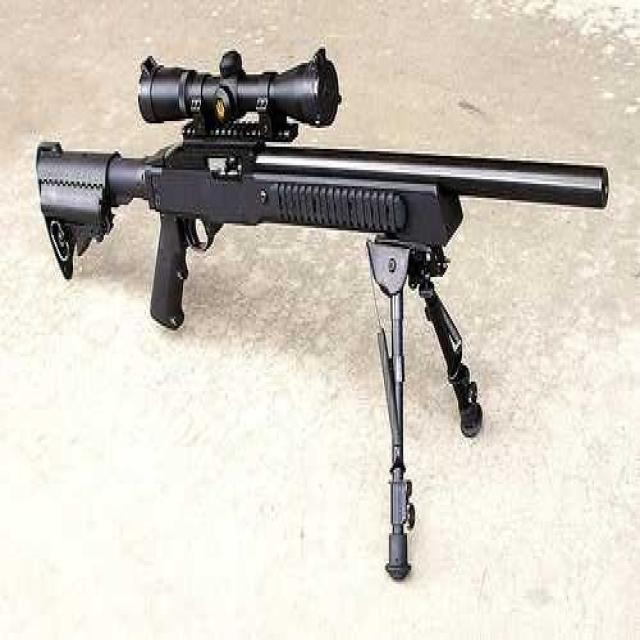RifleTel: (34, 39, 610, 340)
